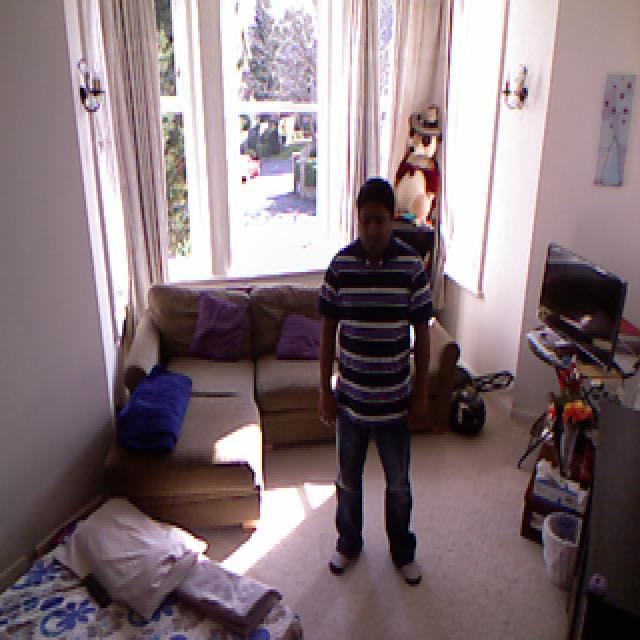standing: (312, 179, 448, 593)
